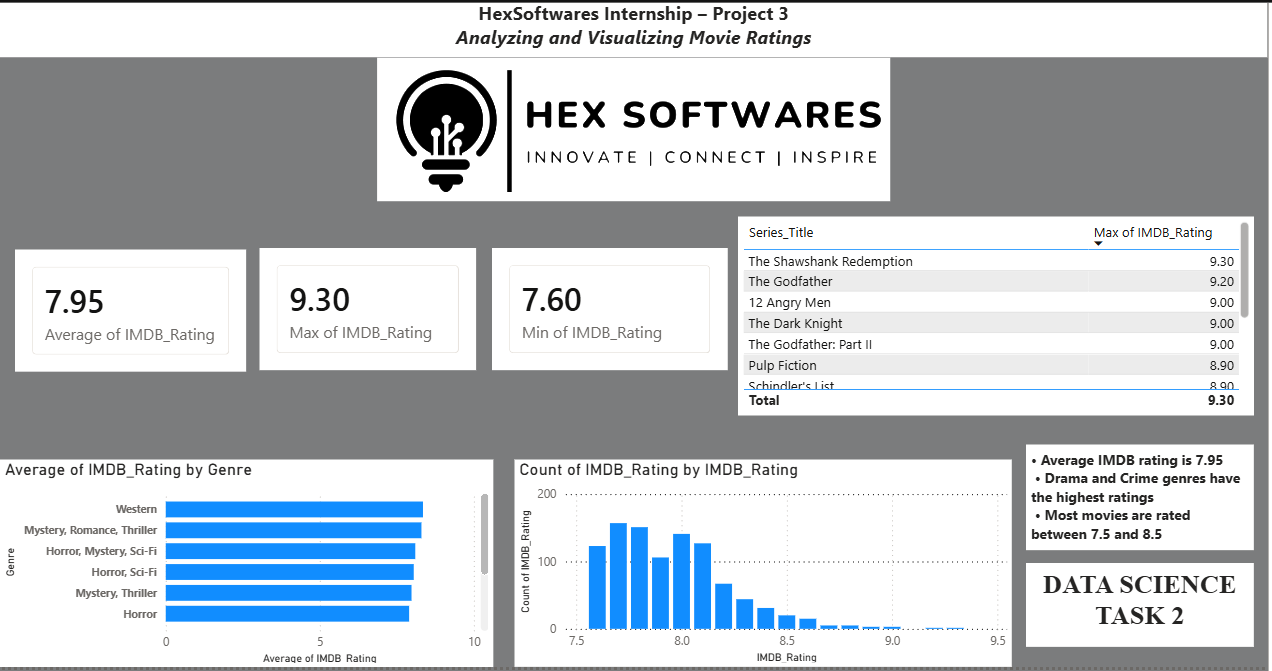

Layout of this report page (visuals, bound fields, positions):
{"tool":"powerbi","page":{"name":"Page 1","canvas":[1280,720],"ordinal":0},"visuals":[{"type":"cardVisual","fields":{"Data":["Avg(cleaned_movie_ratings.IMDB_Rating)"]},"box":[15.6,298.8,233.1,123.6],"z":0},{"type":"clusteredColumnChart","fields":{"Category":["cleaned_movie_ratings.IMDB_Rating"],"Y":["CountNonNull(cleaned_movie_ratings.IMDB_Rating)"]},"box":[519.3,509.9,502.1,209.6],"z":1000},{"type":"tableEx","fields":{"Values":["cleaned_movie_ratings.Series_Title","Max(cleaned_movie_ratings.IMDB_Rating)"]},"box":[744.5,264.3,520.9,200.2],"z":2000},{"type":"actionButton","box":[0,0,100,40],"z":3000},{"type":"clusteredBarChart","fields":{"Category":["cleaned_movie_ratings.Genre"],"Y":["Avg(cleaned_movie_ratings.IMDB_Rating)"]},"box":[0,509.8,498,210.6],"z":4000},{"type":"textbox","box":[0,40.4,1279.5,63.7],"z":5000},{"type":"image","box":[0,104.3,1279.4,145.6],"z":6000},{"type":"textbox","box":[1035.5,614.7,229.9,84.5],"z":7000},{"type":"cardVisual","fields":{"Data":["Min(cleaned_movie_ratings.IMDB_Rating)"]},"box":[497.4,297.2,237.8,123.6],"z":8000},{"type":"cardVisual","fields":{"Data":["Max(cleaned_movie_ratings.IMDB_Rating)"]},"box":[261.2,297.2,219,123.6],"z":9000},{"type":"textbox","box":[1035.5,495.8,229.9,106.4],"z":10000}]}

Visuals, with their boxes in screenshot pixels (x1, y1, x2, y2):
cardVisual - Avg(cleaned_movie_ratings.IMDB_Rating): bbox=(12, 249, 243, 372)
clusteredColumnChart - cleaned_movie_ratings.IMDB_Rating x CountNonNull(cleaned_movie_ratings.IMDB_Rating): bbox=(511, 458, 1008, 666)
tableEx - cleaned_movie_ratings.Series_Title x Max(cleaned_movie_ratings.IMDB_Rating): bbox=(734, 215, 1249, 413)
clusteredBarChart - cleaned_movie_ratings.Genre x Avg(cleaned_movie_ratings.IMDB_Rating): bbox=(0, 458, 490, 667)
textbox: bbox=(0, 0, 1263, 57)
image: bbox=(0, 57, 1263, 201)
textbox: bbox=(1022, 562, 1249, 646)
cardVisual - Min(cleaned_movie_ratings.IMDB_Rating): bbox=(489, 248, 725, 370)
cardVisual - Max(cleaned_movie_ratings.IMDB_Rating): bbox=(255, 248, 472, 370)
textbox: bbox=(1022, 444, 1249, 550)
